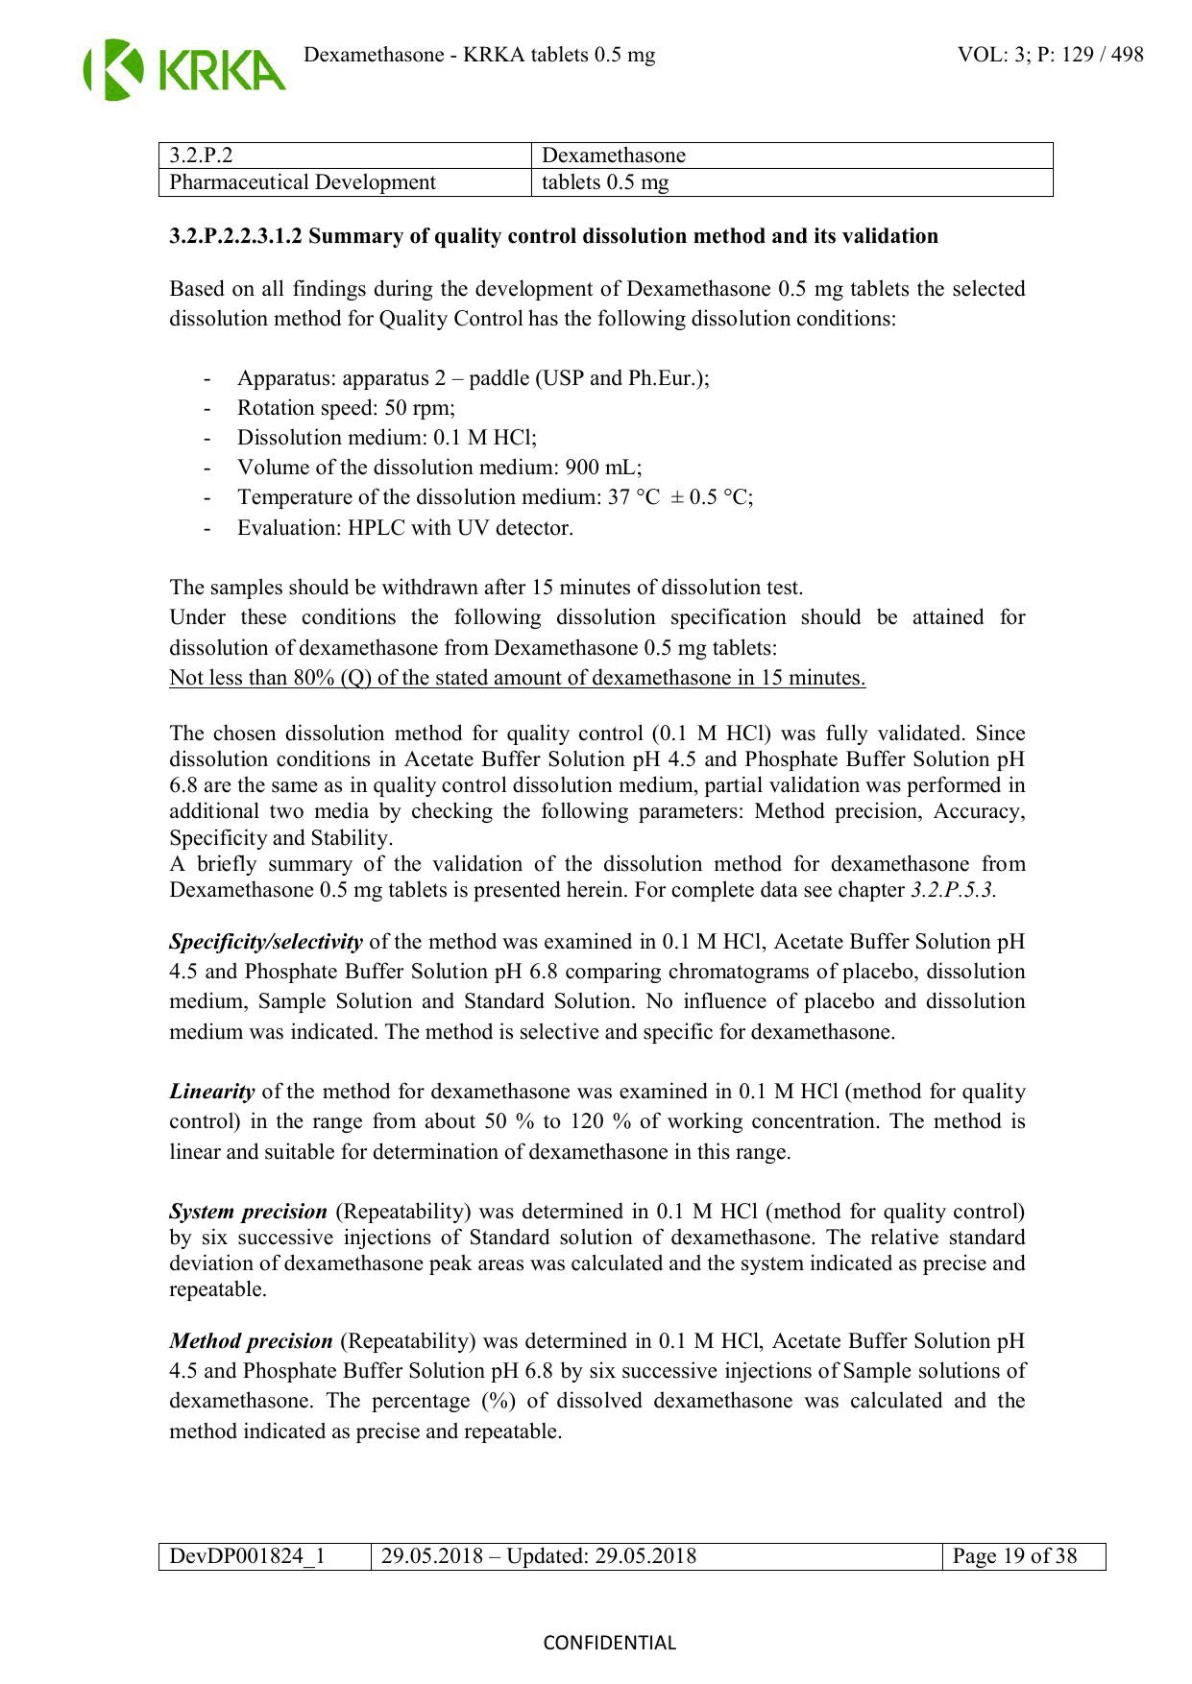full_lined: (157, 142, 1054, 197), (157, 1543, 1107, 1572)
